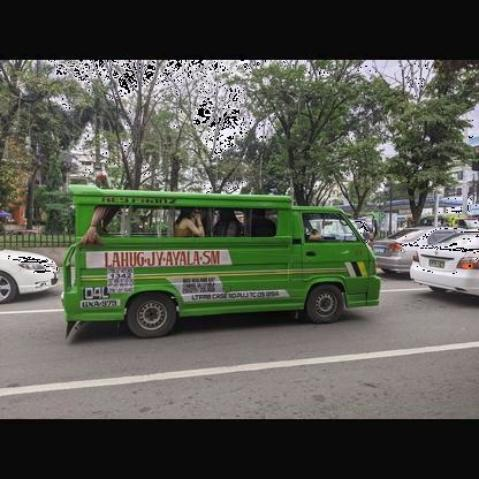jeepney: (71, 180, 388, 341)
